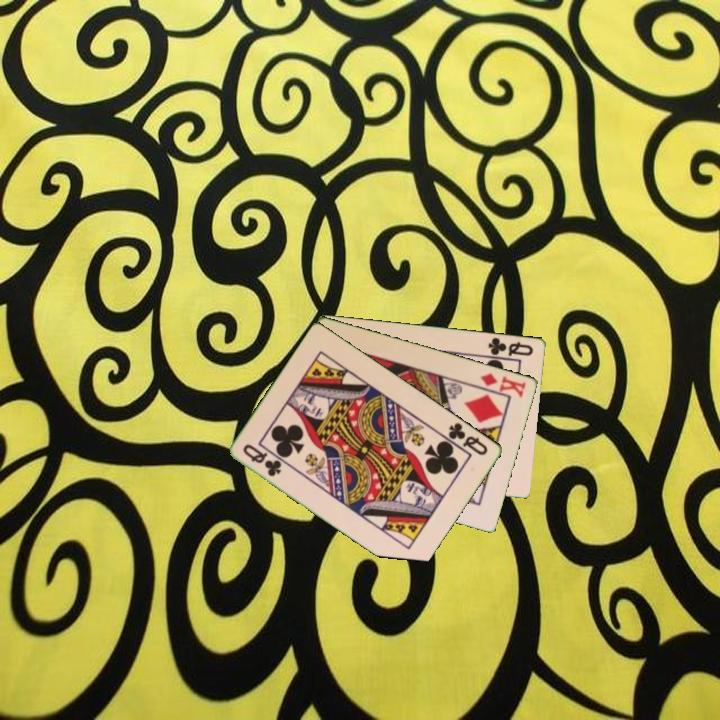Kd: (477, 369, 529, 401)
Qc: (240, 440, 285, 480), (445, 419, 491, 458), (485, 333, 536, 359)
